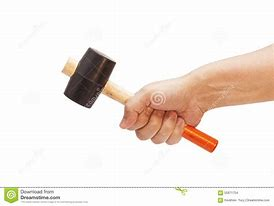hammer: (61, 45, 220, 155)
